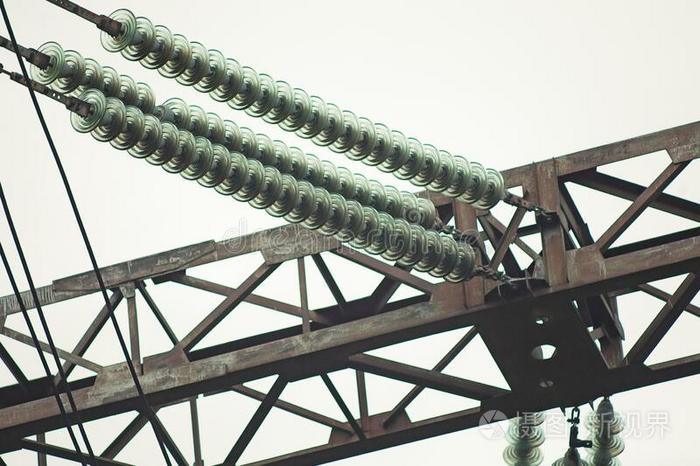insulator: (31, 39, 479, 281), (101, 8, 500, 206), (500, 412, 549, 466), (583, 409, 628, 465)
